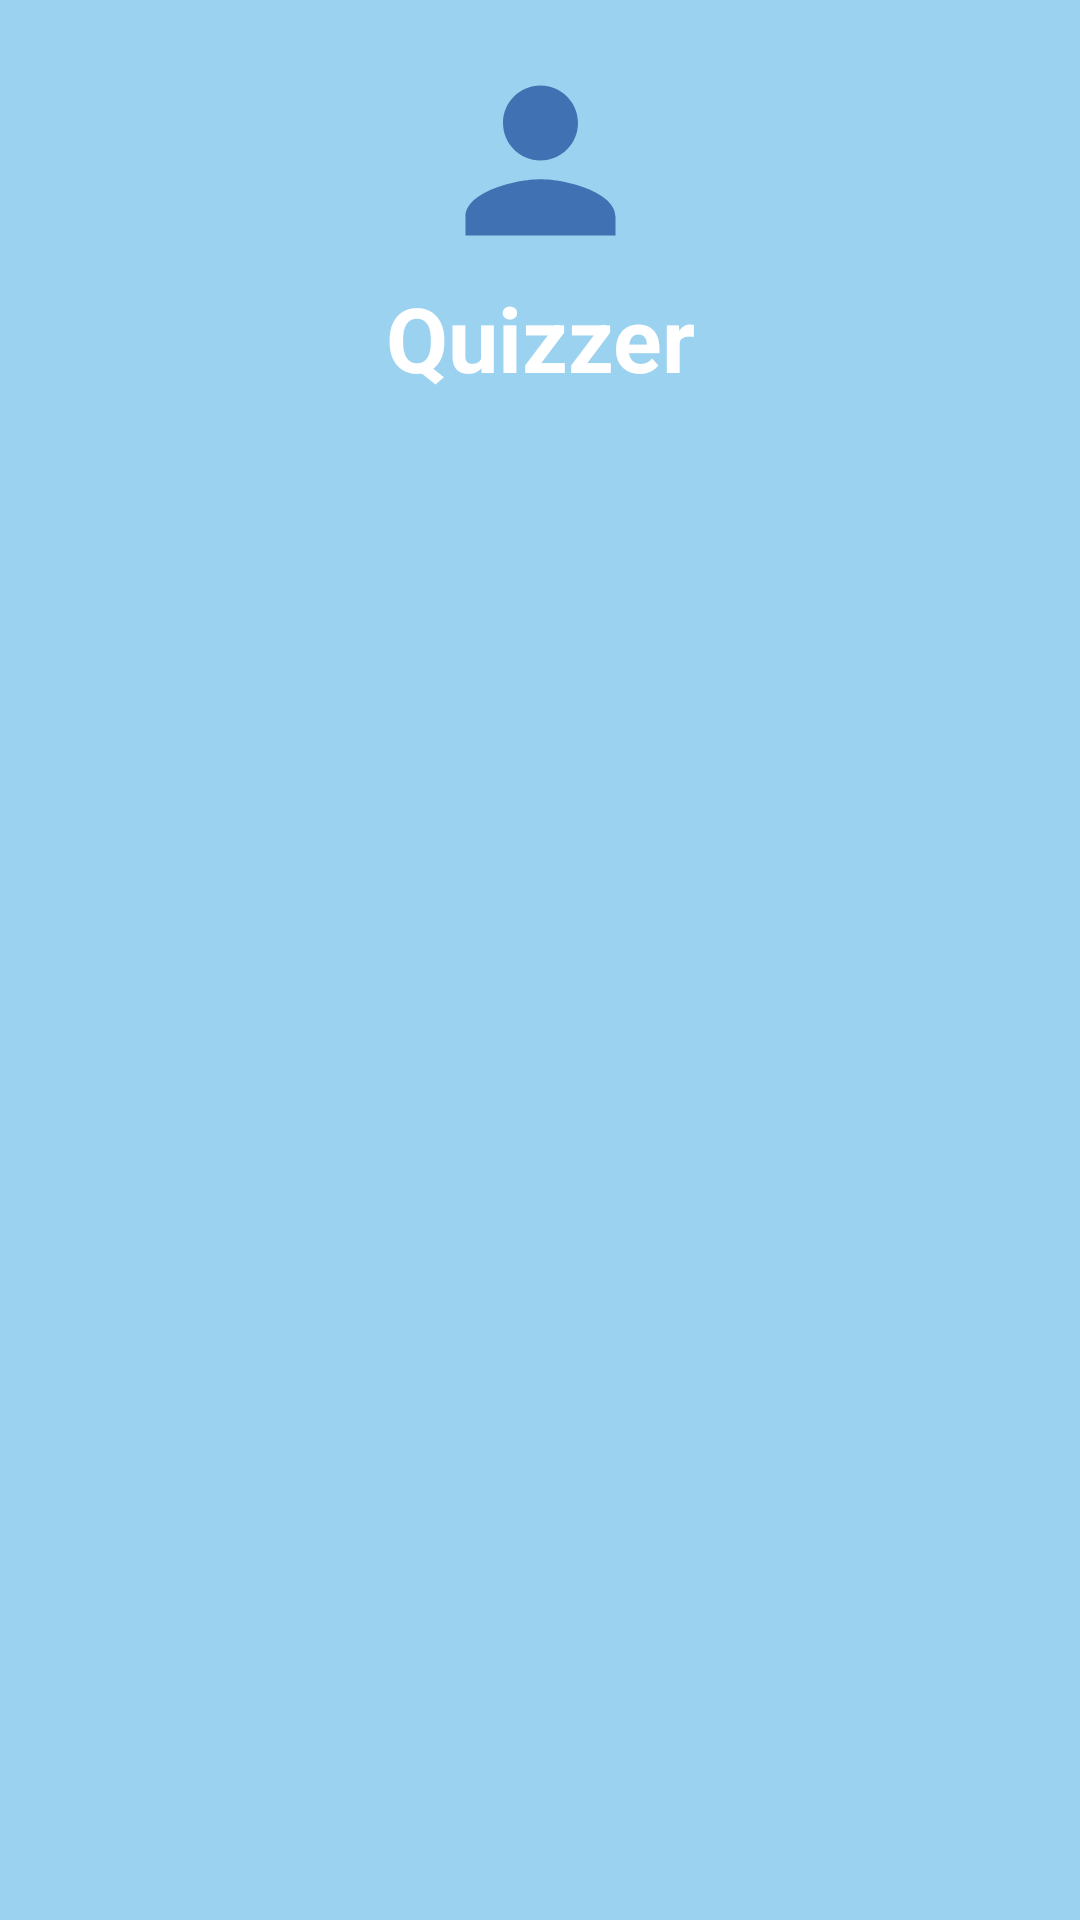

Named icons in this screenshot (1080px x 1920px) and their bounding boxes, (x1, y1, x2, y2):
person: (465, 85, 616, 236)
